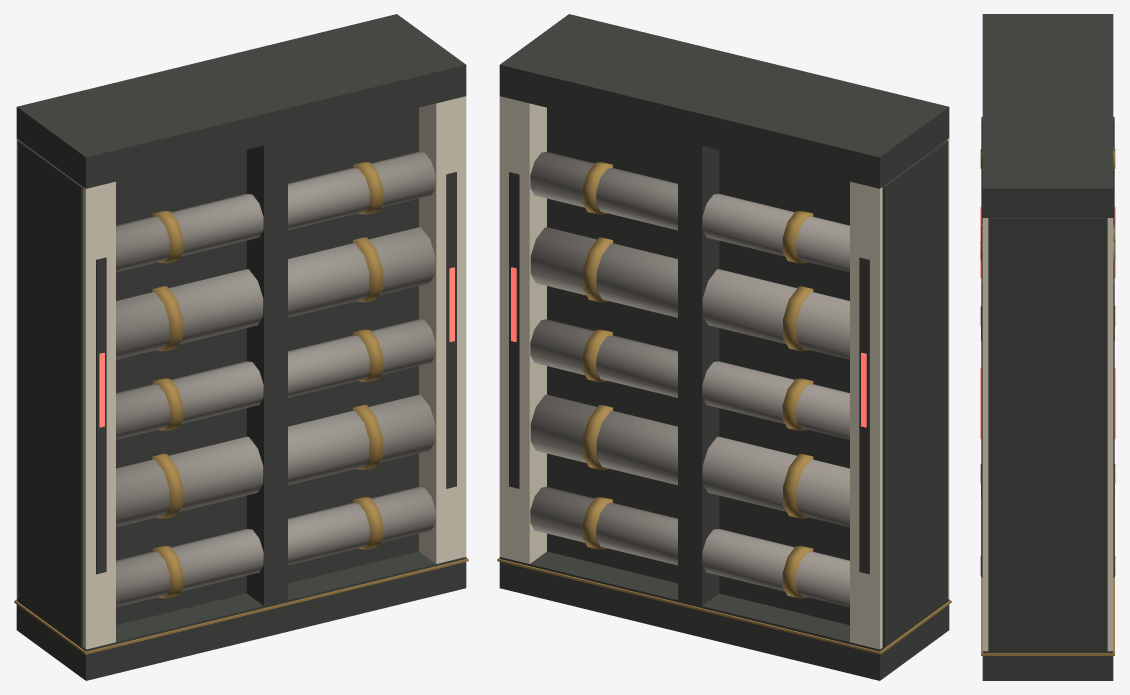
Rendered from b2_pipewall.glb.
3 renders of one model, left to right at view 1: azimuth 30°, elevation 25°; view 2: azimuth 150°, elevation 25°; view 3: azimuth 270°, elevation 25°, orthographic. The views are drawn at different scales.
Parts seen in each view (by area): view 1: b2_pipewall; view 2: b2_pipewall; view 3: b2_pipewall.
Part boxes in pixels (bbox=[...]): b2_pipewall: bbox=[14, 14, 468, 680]; b2_pipewall: bbox=[497, 14, 951, 680]; b2_pipewall: bbox=[980, 14, 1115, 680].
Size of the model in its own units: 3.83 by 5 by 1.25.
